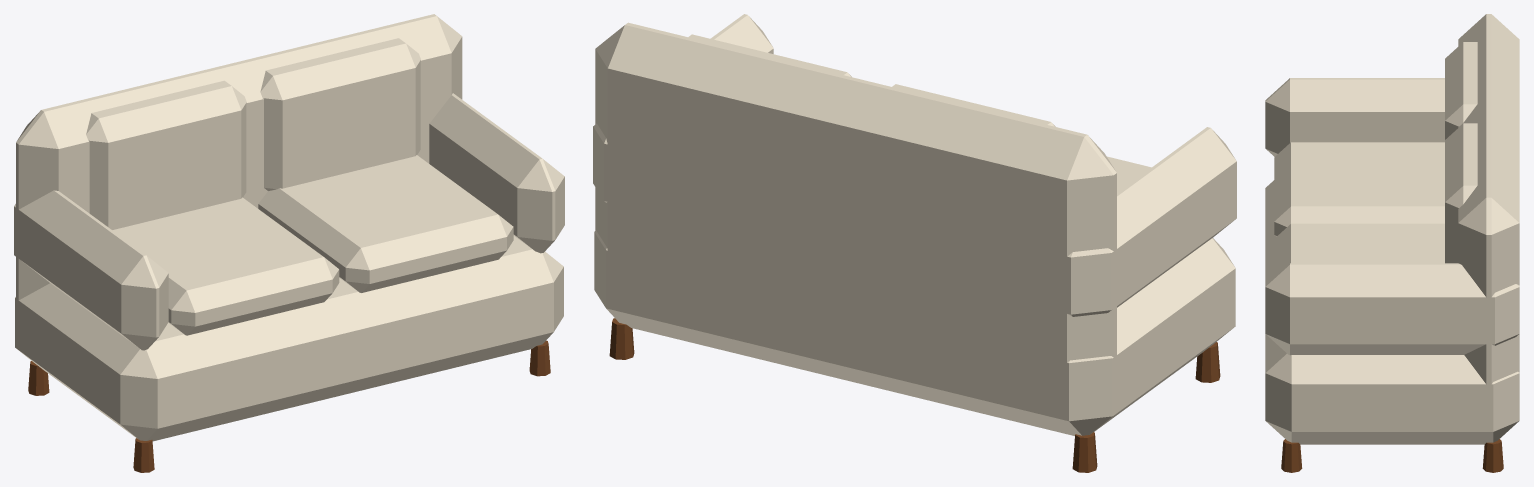
File: CreamSofa.fbx
3 renders of one model, left to right at view 1: azimuth 30°, elevation 25°; view 2: azimuth 150°, elevation 25°; view 3: azimuth 270°, elevation 25°, orthographic. The views are drawn at different scales.
Visible parts, largest first — view 1: CreamSofa; view 2: CreamSofa; view 3: CreamSofa.
Part boxes in pixels (<box>): CreamSofa: <box>14,14,564,472</box>; CreamSofa: <box>593,14,1236,472</box>; CreamSofa: <box>1265,14,1519,472</box>.
Size of the model in its own units: 5.6 by 3.4 by 2.9.
Materials: 1 (1 with a texture image).
